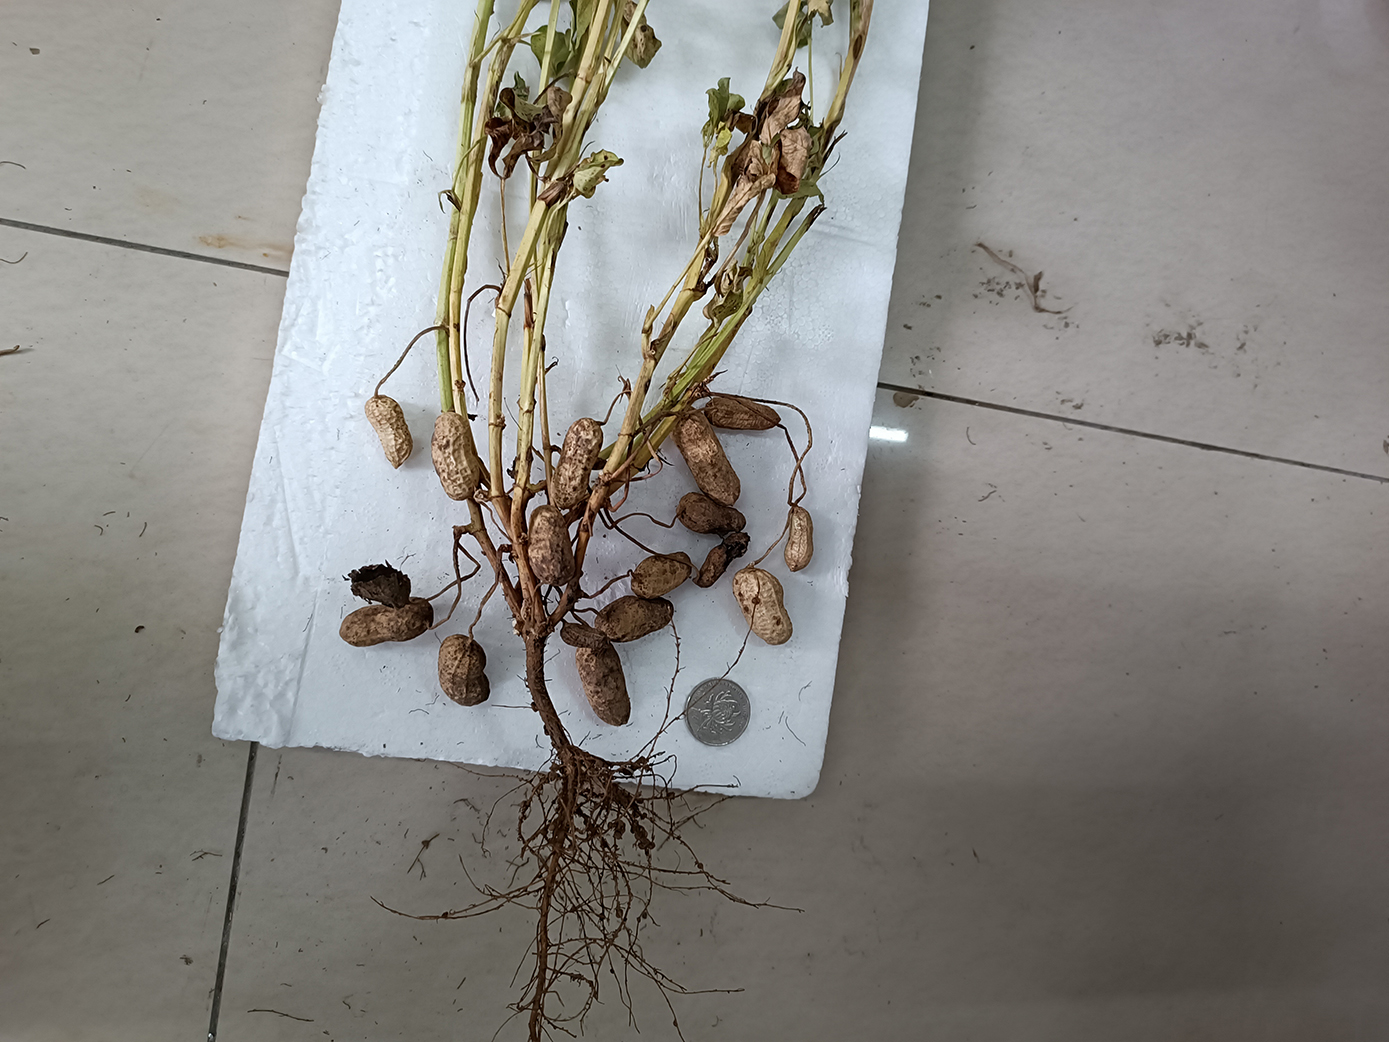h: (672, 408, 741, 505), (733, 567, 792, 646), (431, 412, 481, 502), (437, 634, 491, 707), (526, 505, 576, 586), (364, 395, 413, 470), (629, 551, 693, 597), (784, 506, 814, 572)
l: (338, 597, 435, 647), (551, 418, 603, 510), (575, 644, 630, 727), (595, 595, 674, 642), (342, 559, 410, 607), (695, 532, 752, 588), (676, 493, 746, 534), (705, 397, 782, 430), (560, 622, 607, 648)
